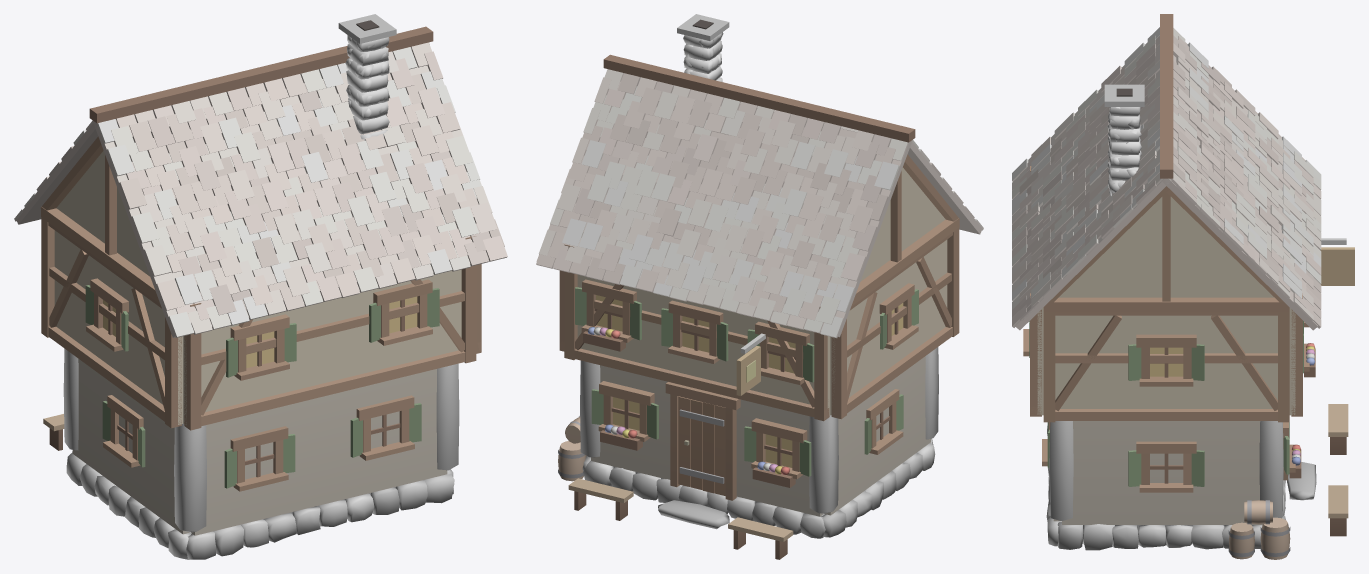
File: hw_medieval_tavern.glb
3 renders of one model, left to right at view 1: azimuth 30°, elevation 25°; view 2: azimuth 150°, elevation 25°; view 3: azimuth 270°, elevation 25°, orthographic. The views are drawn at different scales.
Parts seen in each view (by area): view 1: Building; view 2: Building; view 3: Building.
Part boxes in pixels (x1,y1,x2,y2): Building: [14, 14, 507, 559]; Building: [536, 14, 983, 559]; Building: [1012, 14, 1354, 559].
Size of the model in its own units: 4.4 by 5.75 by 4.1.
